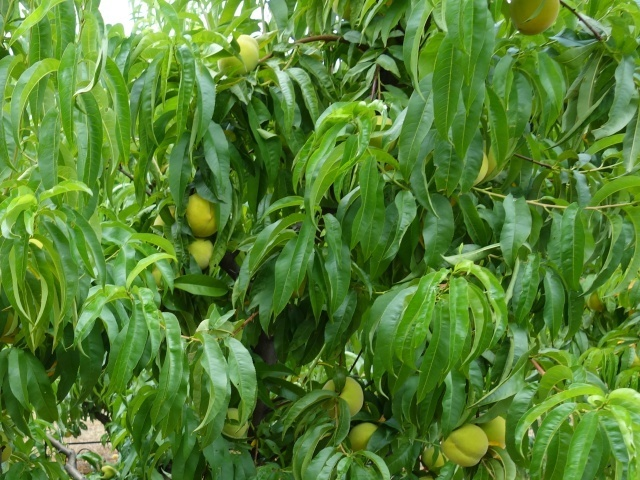peach: (436, 418, 491, 470), (178, 187, 226, 243), (317, 372, 368, 420), (507, 1, 564, 39), (215, 33, 262, 75), (472, 408, 515, 452), (177, 231, 217, 271), (345, 416, 380, 453), (415, 438, 453, 471), (220, 406, 255, 441)
